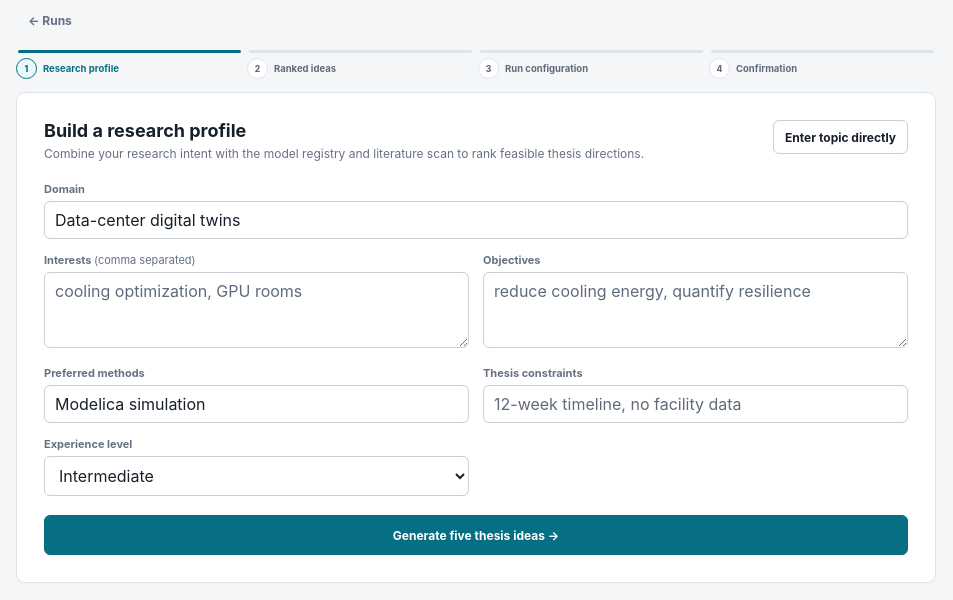
Scenario: NewRun › keeps direct topic entry available
Expected: the field labelled "Domain" is shown, [44,201,908,239]
What coordinates should you click on to do the following:
click the button "Enter topic directly"
I would click on:
 (841, 137)
Its box is [773,120,908,154].
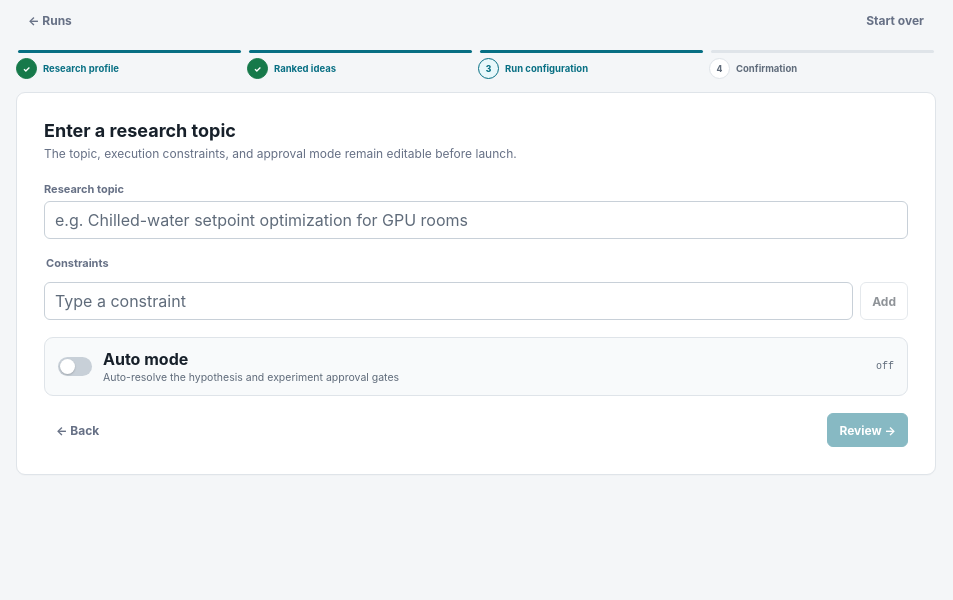
Expected: the heading "Enter a research topic" is shown, [44,120,236,141]
Expected: the field labelled "Research topic" is shown, [44,201,908,239]
